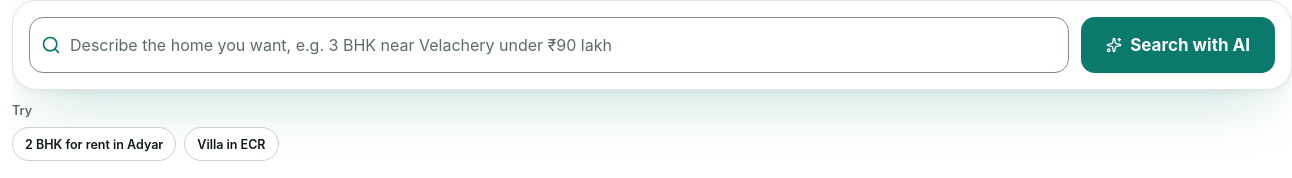
Test case: HomeSearchBar: the home page's search box (ADR-150) › offers suggestion chips (hero lab) that put their words in the box and focus it, without searching
Expected: the element "Try" is shown, [12,103,278,161]
Click the button "Villa in ECR" at (231, 144), box [184,127,279,161]
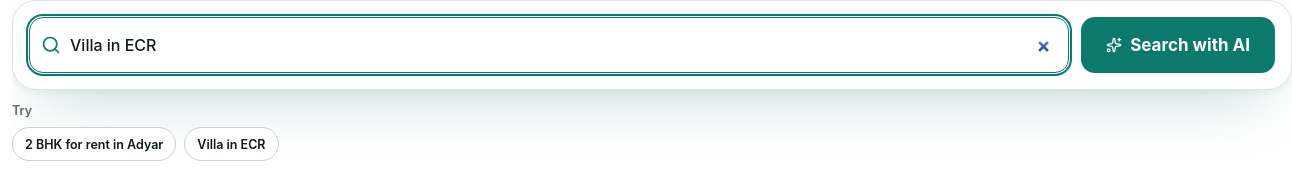
Now the search field named "Describe the home you want" holds "Villa in ECR", box [29,17,1069,73]
